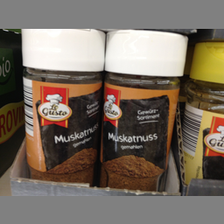spices: (101, 30, 189, 193), (21, 29, 105, 184)
